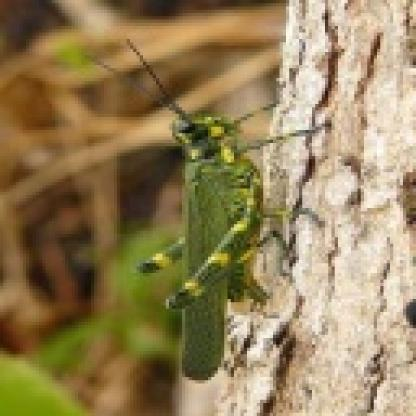grasshopper: (124, 73, 312, 381)
